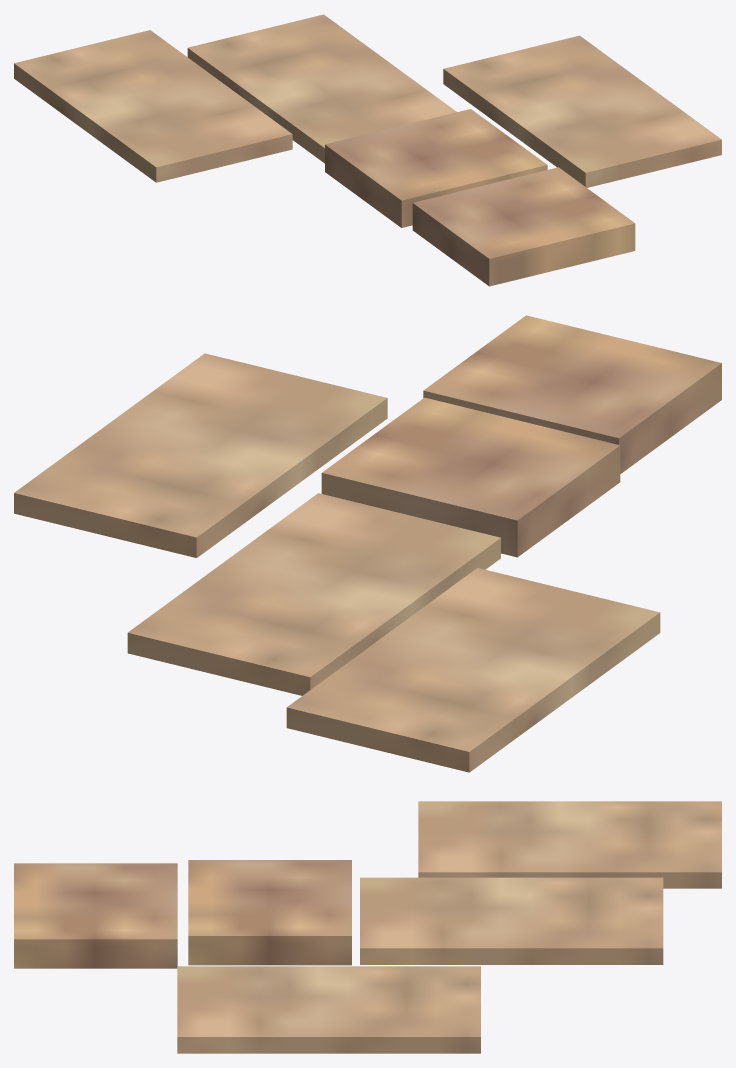
Rendered from Brick04.fbx.
3 views of the same model, one above another, from view 1: azimuth 30°, elevation 25°; view 2: azimuth 150°, elevation 25°; view 3: azimuth 270°, elevation 25° (orthographic). The views are drawn at different scales.
Visible parts, largest first — view 1: Brick04; view 2: Brick04; view 3: Brick04.
Part boxes in pixels (x1,y1,x2,y2): Brick04: [14, 14, 721, 286]; Brick04: [14, 315, 721, 772]; Brick04: [14, 801, 721, 1053].
Size of the model in its own units: 70.72 by 4.11 by 89.79.
